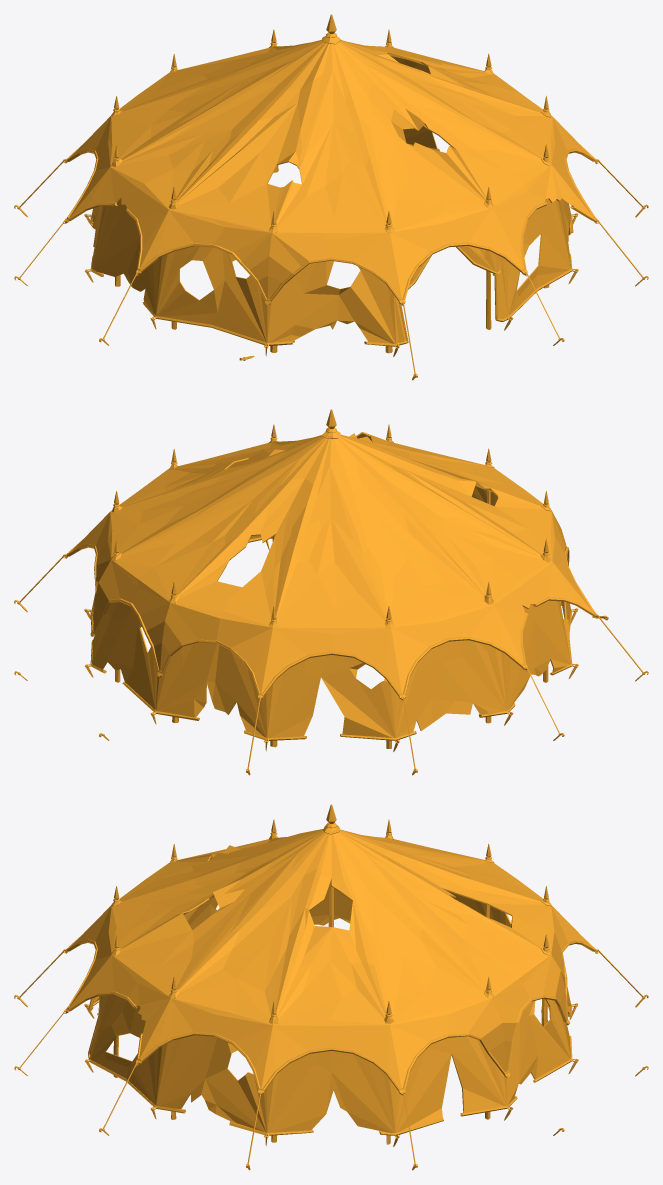
The model's file is SM_Tent_Dodecagon_Plain_Damaged_Fantasy.fbx.
3 renders of one model, top to bottom at view 1: azimuth 30°, elevation 25°; view 2: azimuth 150°, elevation 25°; view 3: azimuth 270°, elevation 25°, orthographic.
Visible parts, largest first — view 1: tent-dodecagon-plain-damaged-fantasy; view 2: tent-dodecagon-plain-damaged-fantasy; view 3: tent-dodecagon-plain-damaged-fantasy.
Boxes of the visible parts, x1=… form: tent-dodecagon-plain-damaged-fantasy: x1=14, y1=14, x2=648, y2=380; tent-dodecagon-plain-damaged-fantasy: x1=14, y1=409, x2=648, y2=775; tent-dodecagon-plain-damaged-fantasy: x1=14, y1=804, x2=648, y2=1170.
Size of the model in its own units: 13.89 by 6 by 13.89.
